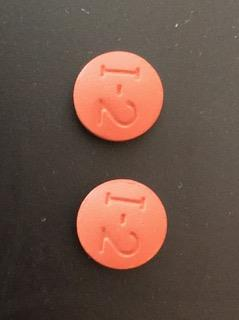Ibuprofen 200 MG Oral Tablet: (67, 44, 172, 151), (69, 175, 173, 276)
